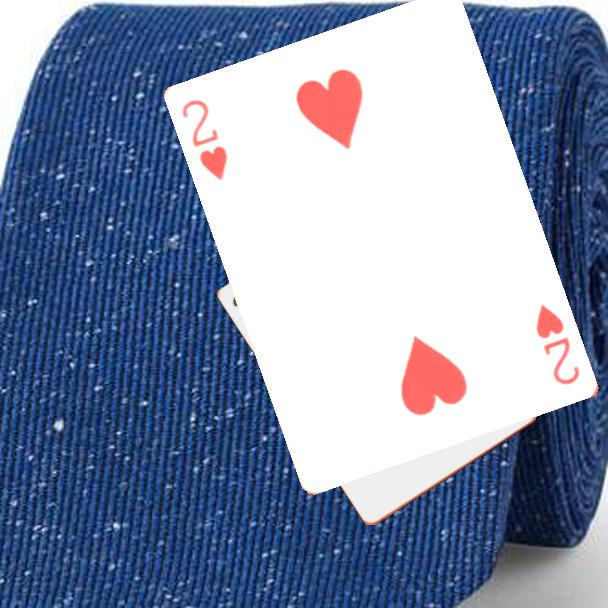h02: (532, 300, 584, 388), (179, 96, 231, 184)
